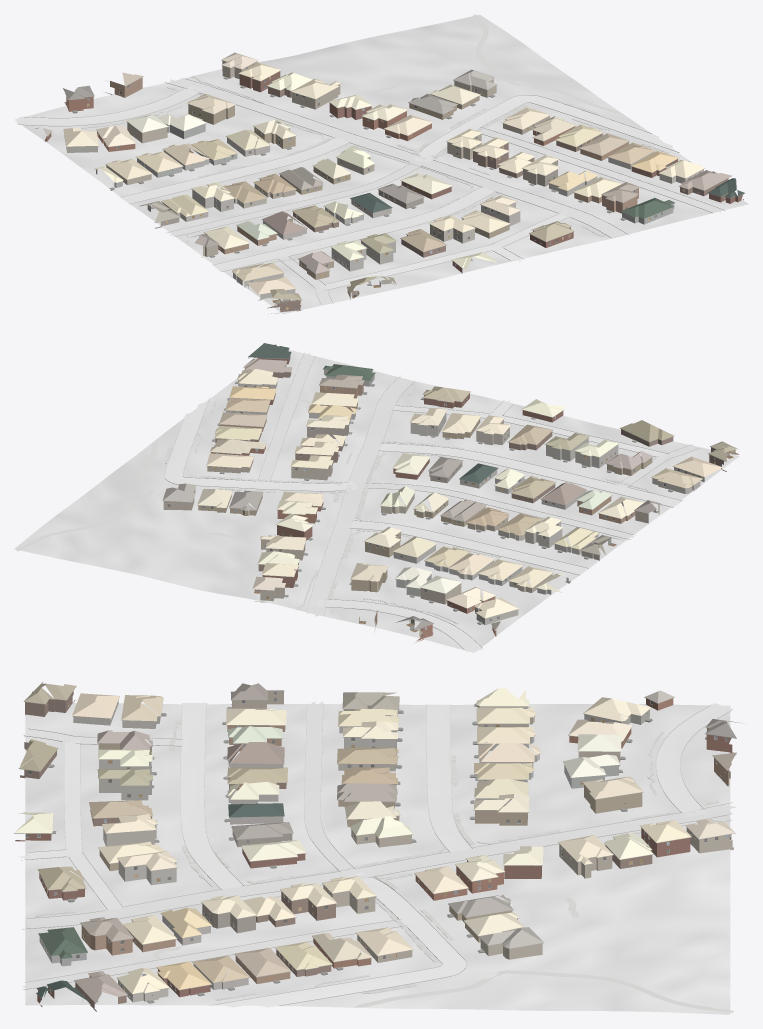
3 renders of one model, top to bottom at view 1: azimuth 30°, elevation 25°; view 2: azimuth 150°, elevation 25°; view 3: azimuth 270°, elevation 25°, orthographic. The views are drawn at different scales.
Parts seen in each view (by area): view 1: ground, roof, concrete, wall, curb, detail, wall_stucco, wall_stone, walk, glass; view 2: ground, roof, concrete, wall, curb, wall_stucco, detail, walk, wall_stone; view 3: ground, roof, concrete, wall, wall_stucco, detail, walk, curb, wall_stone, glass.
Part boxes in pixels (bbox=[...]): ground: bbox=[14, 14, 748, 314]; roof: bbox=[35, 52, 744, 300]; concrete: bbox=[17, 78, 721, 304]; wall: bbox=[44, 71, 743, 314]; curb: bbox=[18, 77, 725, 304]; detail: bbox=[48, 60, 744, 309]; wall_stucco: bbox=[64, 60, 703, 264]; wall_stone: bbox=[162, 137, 654, 300]; walk: bbox=[81, 14, 668, 265]; glass: bbox=[48, 67, 725, 308]; ground: bbox=[14, 349, 739, 652]; roof: bbox=[162, 343, 738, 631]; concrete: bbox=[164, 353, 698, 651]; wall: bbox=[198, 356, 726, 642]; curb: bbox=[164, 352, 699, 649]; wall_stucco: bbox=[163, 370, 588, 624]; detail: bbox=[163, 357, 732, 633]; walk: bbox=[16, 384, 657, 623]; wall_stone: bbox=[226, 404, 704, 580]; ground: bbox=[25, 703, 730, 1014]; roof: bbox=[14, 682, 745, 1003]; concrete: bbox=[18, 701, 736, 1007]; wall: bbox=[15, 690, 736, 1011]; wall_stucco: bbox=[39, 706, 733, 1002]; detail: bbox=[14, 686, 736, 1003]; walk: bbox=[35, 720, 733, 1012]; curb: bbox=[21, 702, 732, 1005]; wall_stone: bbox=[73, 700, 539, 989]; glass: bbox=[25, 691, 728, 996].
Size of the model in its own units: 263 by 13.88 by 261.
